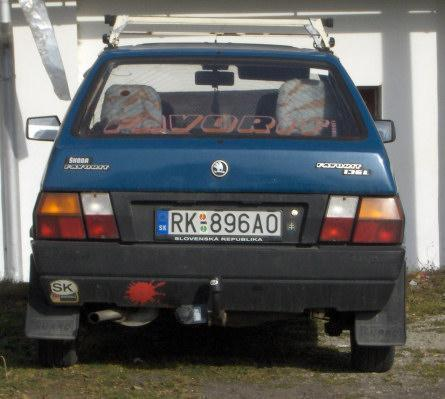placa de veiculo: (147, 204, 299, 252)
